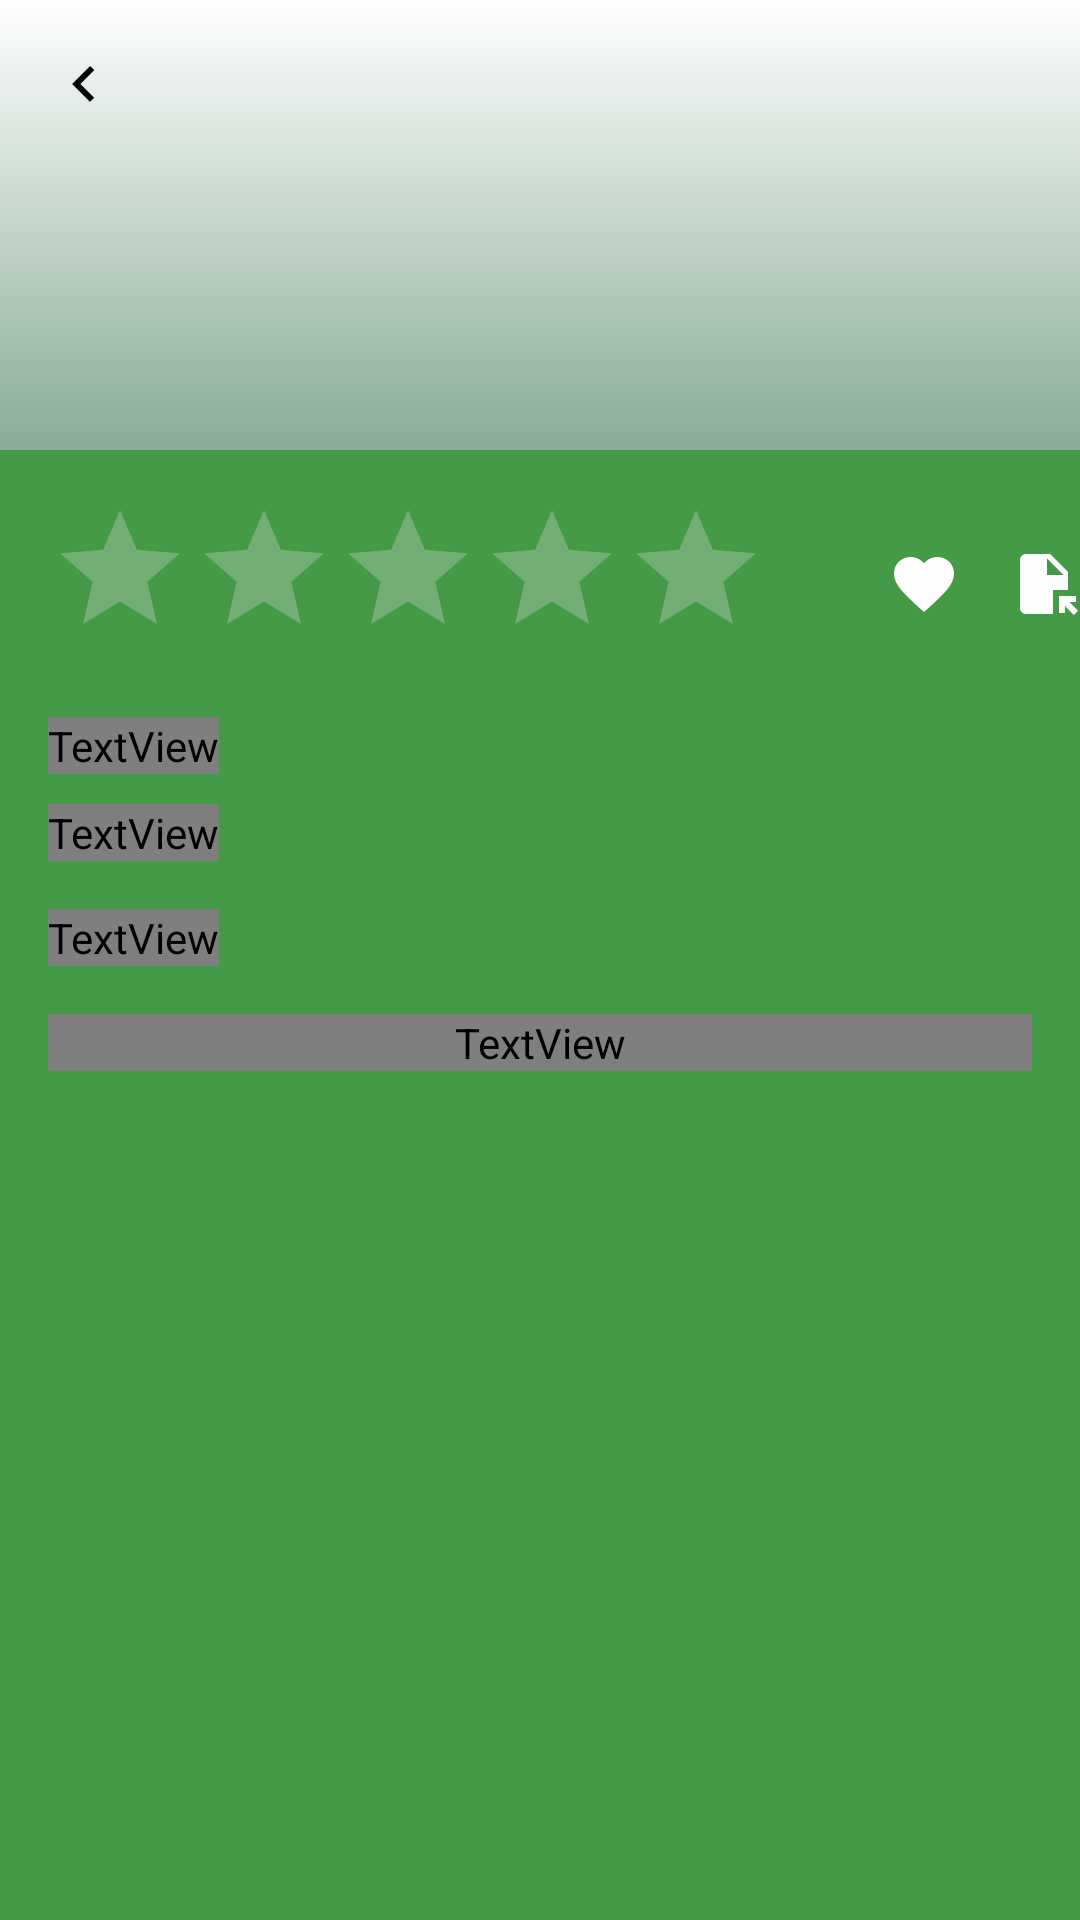

Where to tap for icons on this 1080w x 1920h app screen, as (x=x, y=y):
favorite: (x=924, y=584)
file open: (x=1049, y=584)
